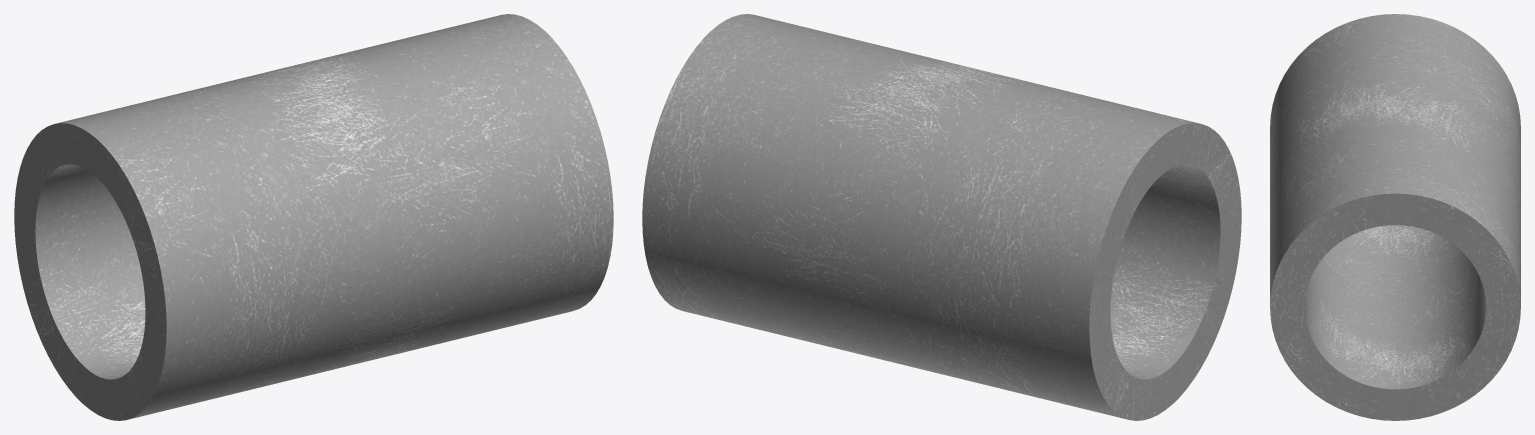
File: Straight Pipe.fbx
3 views of the same model, side by side, from view 1: azimuth 30°, elevation 25°; view 2: azimuth 150°, elevation 25°; view 3: azimuth 270°, elevation 25° (orthographic). The views are drawn at different scales.
Visible parts, largest first — view 1: StraightPipe; view 2: StraightPipe; view 3: StraightPipe.
Part boxes in pixels (x1,y1,x2,y2): StraightPipe: [14, 14, 613, 420]; StraightPipe: [642, 14, 1241, 420]; StraightPipe: [1270, 14, 1520, 420].
Bounding box in the file's own units: 110 × 65 × 65.
1 material, 1 textured.
